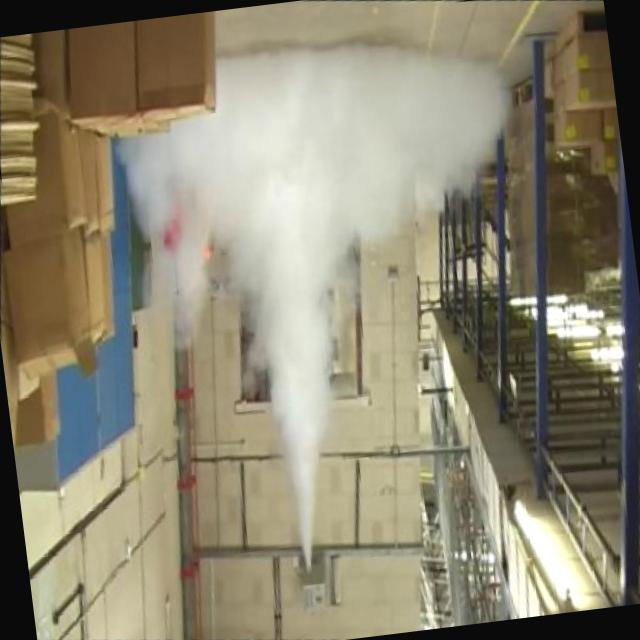smoke: (89, 12, 538, 615)
